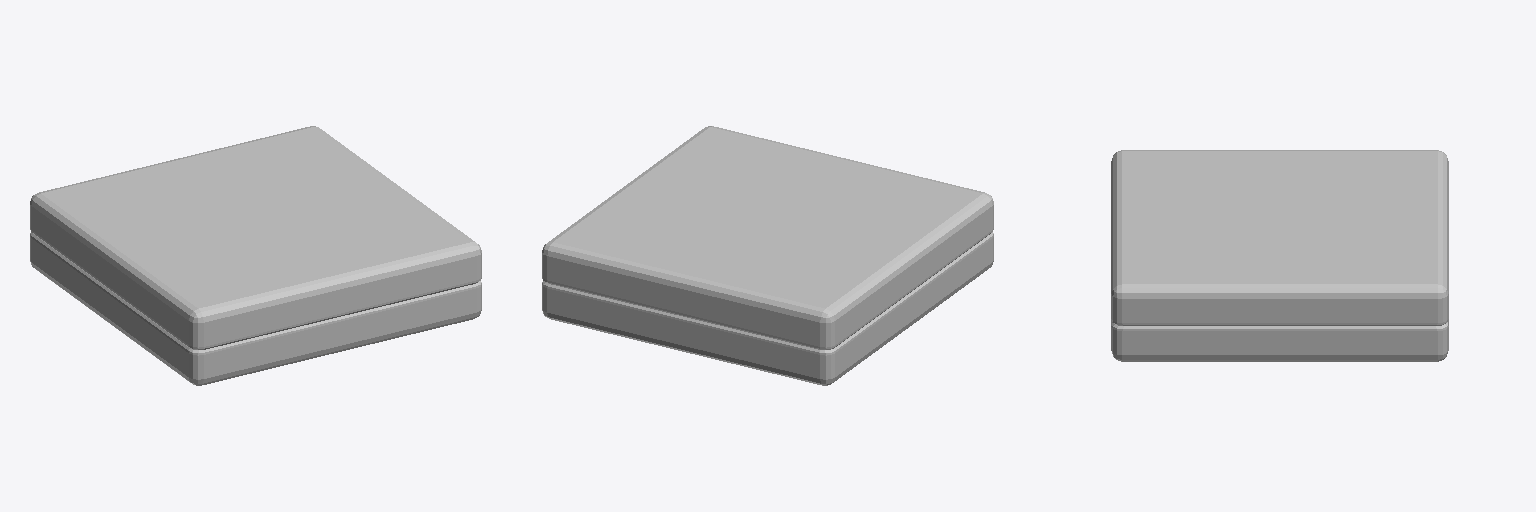
File: tile2x2_graveyard.obj
3 renders of one model, left to right at view 1: azimuth 30°, elevation 25°; view 2: azimuth 150°, elevation 25°; view 3: azimuth 270°, elevation 25°, orthographic.
Parts seen in each view (by area): view 1: tile2x2_graveyard_Cube.1441; view 2: tile2x2_graveyard_Cube.1441; view 3: tile2x2_graveyard_Cube.1441.
Part boxes in pixels (left/top/right/bottom): tile2x2_graveyard_Cube.1441: left=30, top=126, right=481, bottom=385; tile2x2_graveyard_Cube.1441: left=542, top=126, right=993, bottom=385; tile2x2_graveyard_Cube.1441: left=1111, top=150, right=1448, bottom=361.
Size of the model in its own units: 4 by 1 by 4.